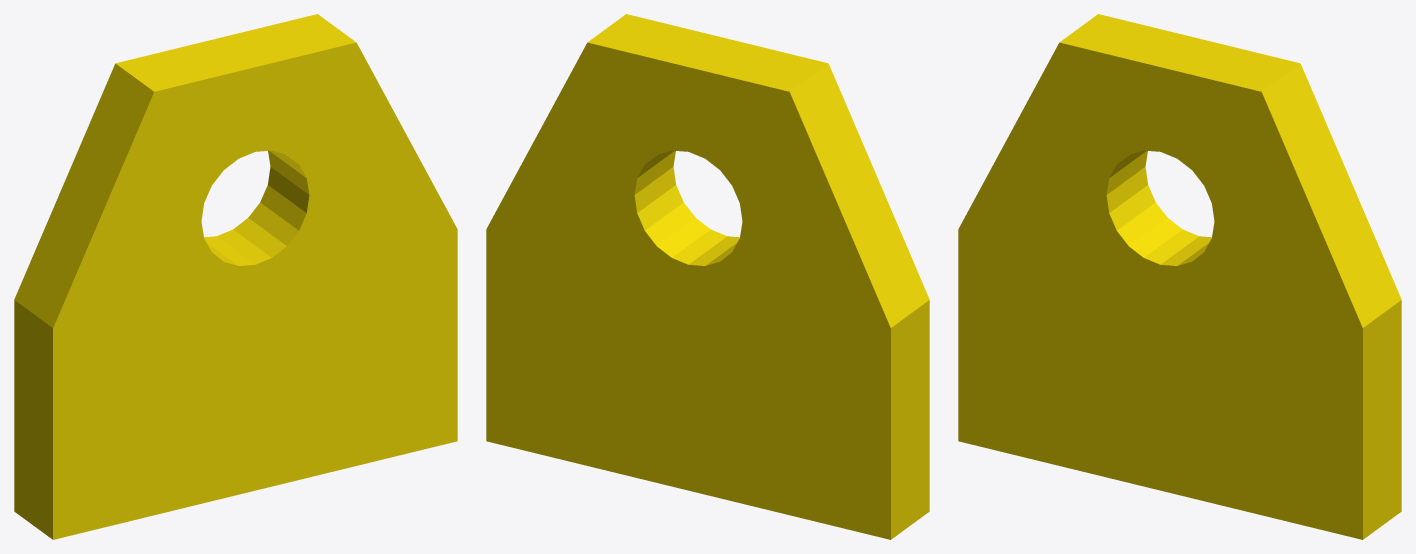
Rendered from lug-lifting-32.glb.
3 views of the same model, side by side, from view 1: azimuth 30°, elevation 25°; view 2: azimuth 150°, elevation 25°; view 3: azimuth 330°, elevation 25° (orthographic).
Visible parts, largest first — view 1: body; view 2: body; view 3: body.
Boxes of the visible parts, left/top/right/bottom form: body: left=14, top=14, right=457, bottom=539; body: left=486, top=14, right=929, bottom=539; body: left=958, top=14, right=1401, bottom=539.
Size of what is drawn, in the model's own units: 0.12 by 0.12 by 0.02.
